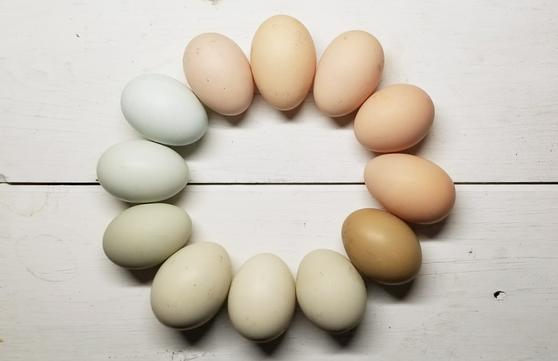egg: (115, 68, 214, 150), (151, 240, 233, 335), (181, 29, 256, 122), (99, 204, 199, 273), (356, 155, 457, 223), (250, 16, 317, 117), (314, 29, 384, 123), (300, 247, 366, 344), (344, 208, 424, 288), (230, 249, 298, 343), (96, 141, 193, 204), (356, 83, 438, 156)
